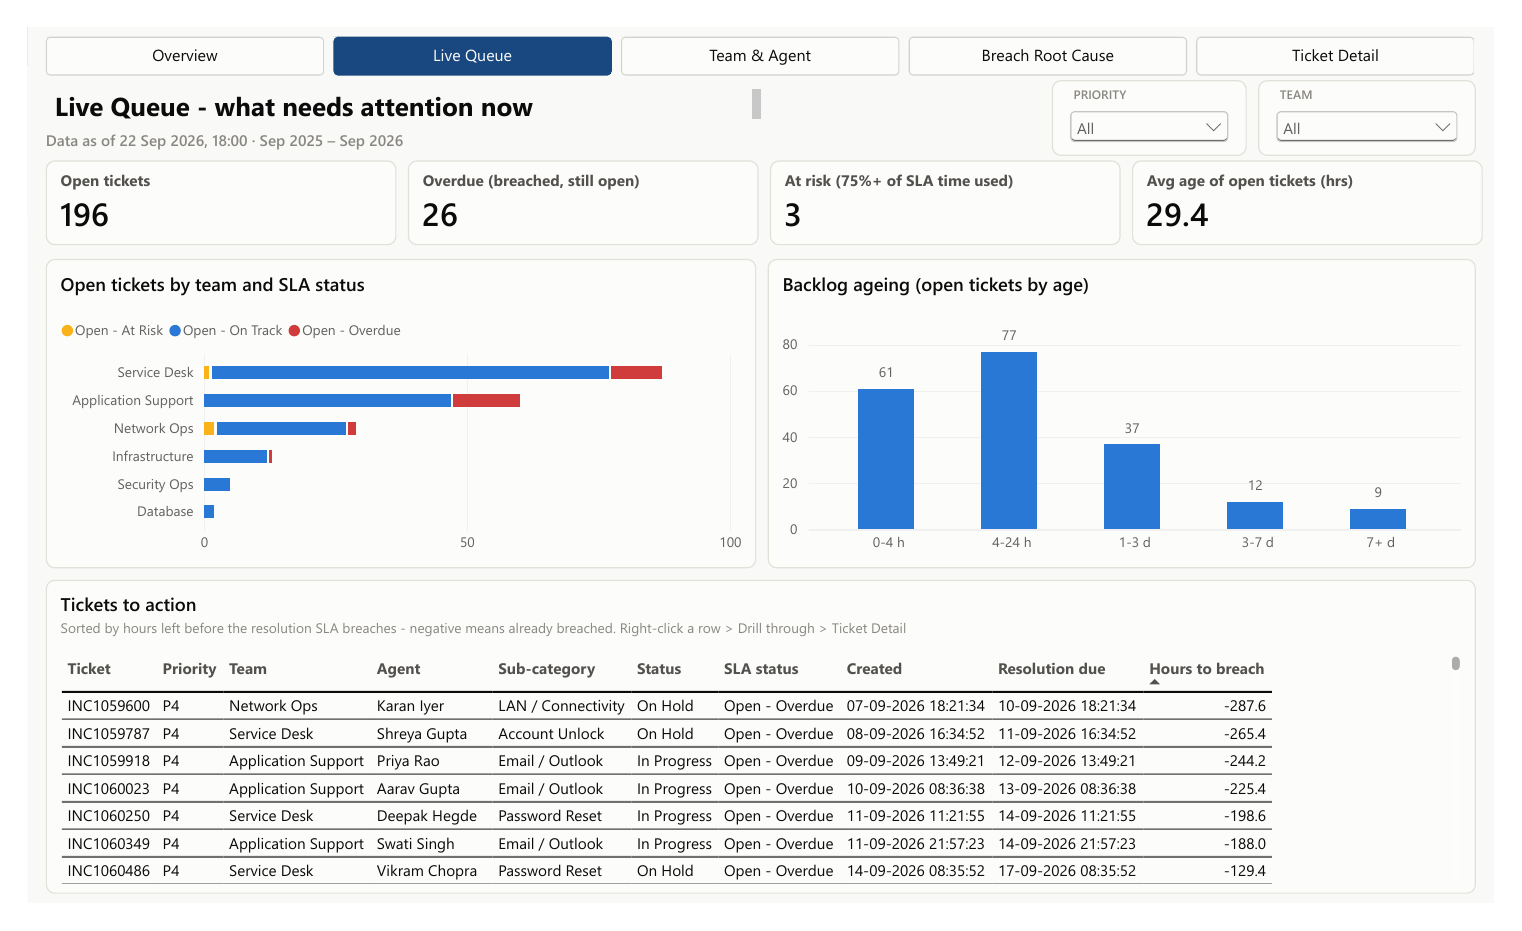

This screenshot's page, from the dashboard's own definition file:
{"tool":"powerbi","page":{"name":"Live Queue","canvas":[1280,764],"ordinal":1},"visuals":[{"type":"pageNavigator","box":[16,8,1248,34],"z":1000},{"type":"textbox","box":[12,44,640,46],"z":2000},{"type":"cardVisual","fields":{"Data":["_Measures.As Of Label"]},"box":[12,82,560,30],"z":3000},{"type":"slicer","fields":{"Values":["DimPriority.Priority"]},"box":[894,46,170,66],"z":4000},{"type":"slicer","fields":{"Values":["DimTeam.Team"]},"box":[1074,46,190,66],"z":5000},{"type":"cardVisual","fields":{"Data":["_Measures.Open Tickets"]},"box":[16,116,306,74],"z":6000},{"type":"cardVisual","fields":{"Data":["_Measures.Overdue Open Tickets"]},"box":[332,116,306,74],"z":7000},{"type":"cardVisual","fields":{"Data":["_Measures.At-Risk Tickets"]},"box":[648,116,306,74],"z":8000},{"type":"cardVisual","fields":{"Data":["_Measures.Avg Open Age (hrs)"]},"box":[964,116,306,74],"z":9000},{"type":"barChart","title":"Open tickets by team and SLA status","fields":{"Category":["DimTeam.Team"],"Series":["FactTickets.SLAStatus"],"Y":["_Measures.Open Tickets"]},"box":[16,202,620,270],"z":10000},{"type":"clusteredColumnChart","title":"Backlog ageing (open tickets by age)","fields":{"Category":["FactTickets.Backlog Age Bucket"],"Y":["_Measures.Open Tickets"]},"box":[646,202,618,270],"z":11000},{"type":"tableEx","title":"Tickets to action","fields":{"Values":["FactTickets.TicketID","DimPriority.PriorityShort","DimTeam.Team","DimAgent.AgentName","DimCategory.SubCategory","FactTickets.Status","FactTickets.SLAStatus","FactTickets.CreatedDateTime","FactTickets.ResolutionDueDateTime","FactTickets.Hours To Breach"]},"box":[16,482,1248,274],"z":12000}]}

Visuals, with their boxes in screenshot pixels (x1, y1, x2, y2), scaled from the page's 1280x764 canvas onto the 1522x931 screenshot:
pageNavigator: detection(19, 10, 1503, 51)
textbox: detection(14, 54, 775, 110)
cardVisual - _Measures.As Of Label: detection(14, 100, 680, 136)
slicer - DimPriority.Priority: detection(1063, 56, 1265, 136)
slicer - DimTeam.Team: detection(1277, 56, 1503, 136)
cardVisual - _Measures.Open Tickets: detection(19, 141, 383, 232)
cardVisual - _Measures.Overdue Open Tickets: detection(395, 141, 759, 232)
cardVisual - _Measures.At-Risk Tickets: detection(771, 141, 1134, 232)
cardVisual - _Measures.Avg Open Age (hrs): detection(1146, 141, 1510, 232)
"Open tickets by team and SLA status" barChart: detection(19, 246, 756, 575)
"Backlog ageing (open tickets by age)" clusteredColumnChart: detection(768, 246, 1503, 575)
"Tickets to action" tableEx: detection(19, 587, 1503, 921)
